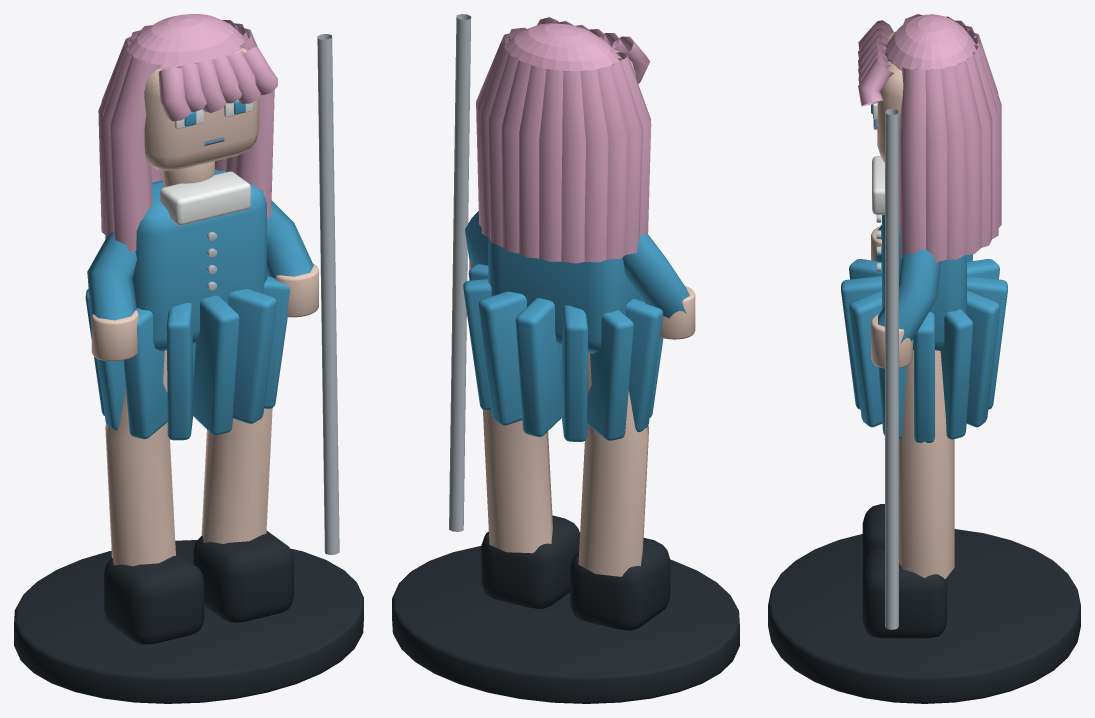
Rendered from march7-display-figurine.glb.
The picture shows the model from 3 angles, left to right: view 1: azimuth 30°, elevation 25°; view 2: azimuth 150°, elevation 25°; view 3: azimuth 270°, elevation 25°; orthographic projection.
Visible parts, largest first — view 1: march7-display-figurine; view 2: march7-display-figurine; view 3: march7-display-figurine.
Part boxes in pixels (x1=…): march7-display-figurine: x1=14, y1=14, x2=363, y2=703; march7-display-figurine: x1=392, y1=14, x2=739, y2=703; march7-display-figurine: x1=768, y1=14, x2=1080, y2=703.
Size of the model in its own units: 0.16 by 0.3 by 0.14.
